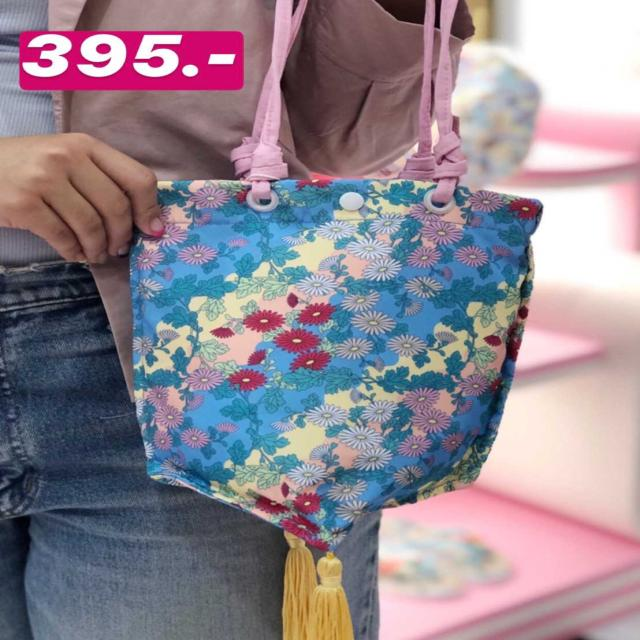handbag: (108, 156, 548, 562)
